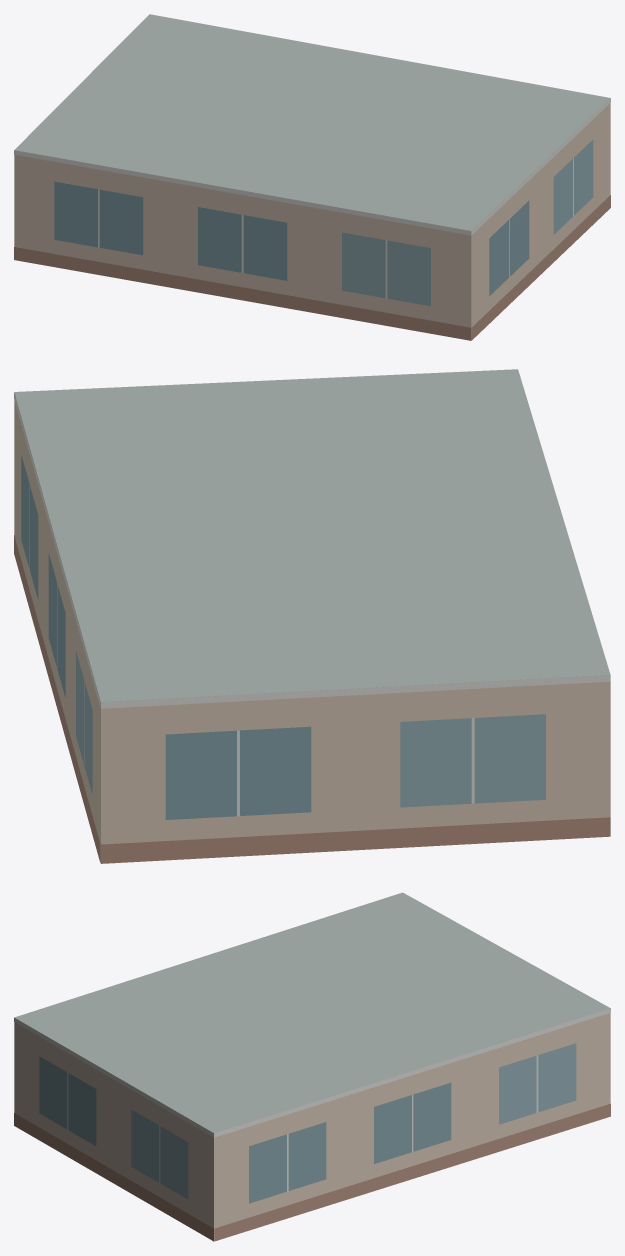
File: survey-upis-32673108.glb
3 renders of one model, top to bottom at view 1: azimuth 30°, elevation 25°; view 2: azimuth 150°, elevation 25°; view 3: azimuth 270°, elevation 25°, orthographic. The views are drawn at different scales.
Visible parts, largest first — view 1: survey-upis-32673108.tmp; view 2: survey-upis-32673108.tmp; view 3: survey-upis-32673108.tmp.
Boxes of the visible parts, x1=… form: survey-upis-32673108.tmp: x1=14, y1=14, x2=610, y2=340; survey-upis-32673108.tmp: x1=14, y1=369, x2=610, y2=863; survey-upis-32673108.tmp: x1=14, y1=892, x2=610, y2=1241.
Bounding box in the file's own units: 14.57 × 3.05 × 15.25.
